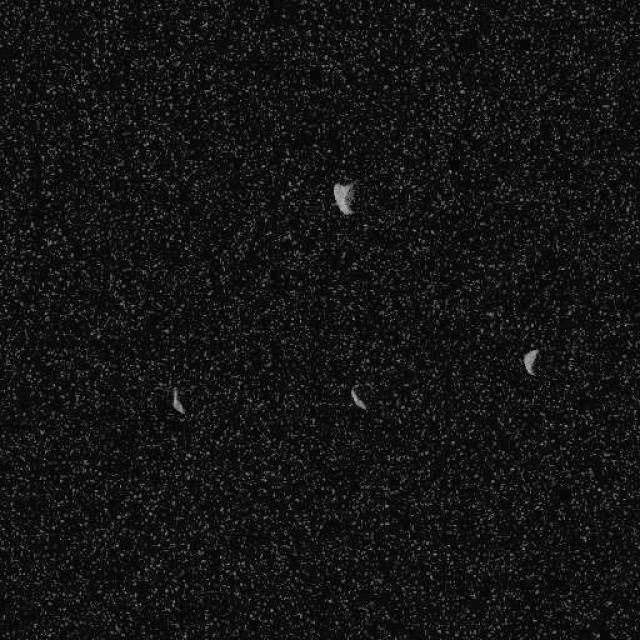D2: (331, 180, 355, 215), (521, 348, 540, 377), (348, 384, 368, 411), (170, 386, 186, 415)
